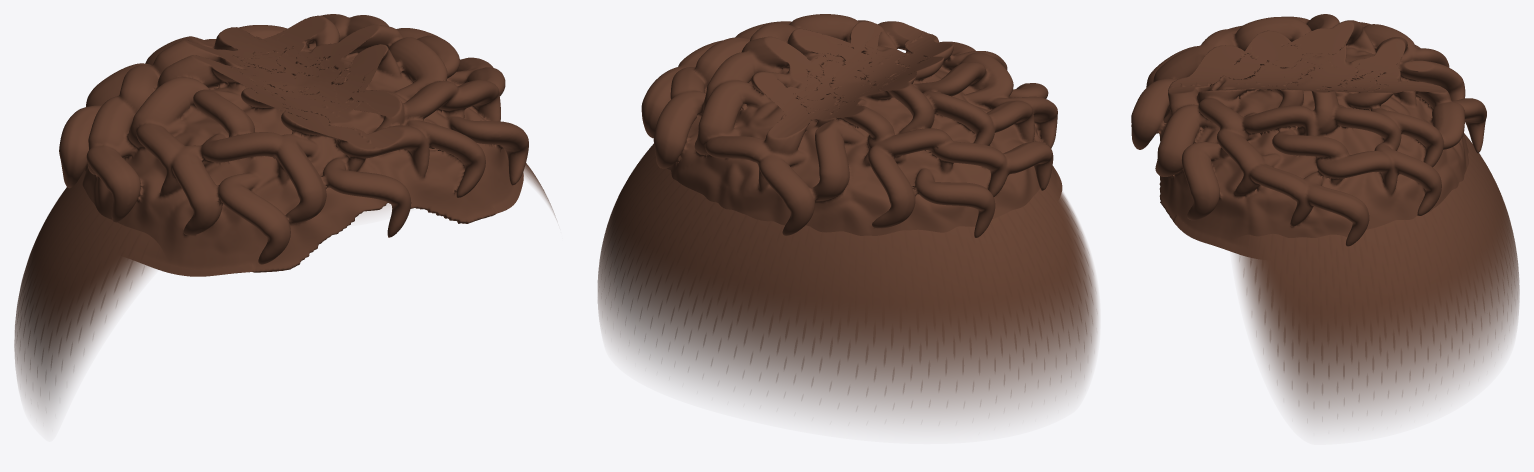
The model's file is Masculine-curly-top-cowboy258-hair.glb.
3 renders of one model, left to right at view 1: azimuth 30°, elevation 25°; view 2: azimuth 150°, elevation 25°; view 3: azimuth 270°, elevation 25°, orthographic. The views are drawn at different scales.
Parts seen in each view (by area): view 1: 226 hair / Hair252 / sculpted curl groups, 226 hair / Hair258 / smooth side fade, 226 hair / Hair258 / directional fade marks; view 2: 226 hair / Hair258 / smooth side fade, 226 hair / Hair252 / sculpted curl groups, 226 hair / Hair258 / directional fade marks; view 3: 226 hair / Hair252 / sculpted curl groups, 226 hair / Hair258 / smooth side fade, 226 hair / Hair258 / directional fade marks.
Boxes of the visible parts, x1,y1,x2,y2 form: 226 hair / Hair252 / sculpted curl groups: [59, 14, 528, 276]; 226 hair / Hair258 / smooth side fade: [14, 81, 556, 418]; 226 hair / Hair258 / directional fade marks: [16, 168, 159, 375]; 226 hair / Hair258 / smooth side fade: [598, 80, 1098, 423]; 226 hair / Hair252 / sculpted curl groups: [641, 14, 1062, 237]; 226 hair / Hair258 / directional fade marks: [607, 144, 1092, 395]; 226 hair / Hair252 / sculpted curl groups: [1131, 14, 1486, 257]; 226 hair / Hair258 / smooth side fade: [1233, 81, 1519, 425]; 226 hair / Hair258 / directional fade marks: [1238, 140, 1514, 405].
Size of the model in its own units: 0.9705 by 0.6416 by 0.7492.
